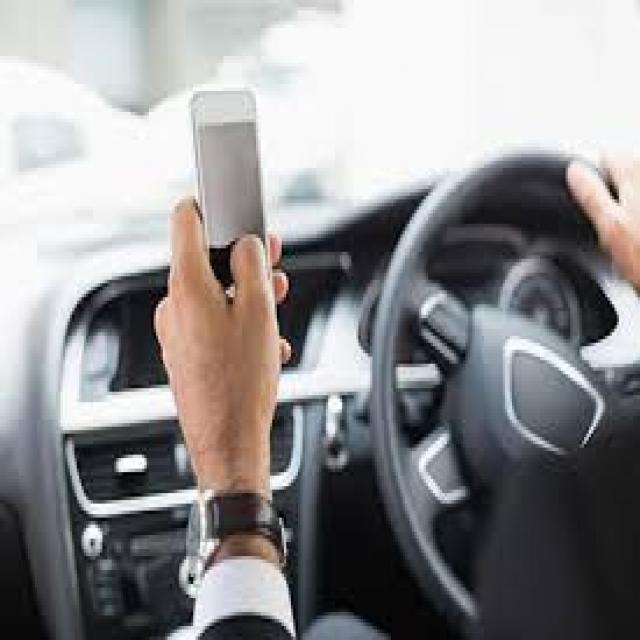Cellphone_texting: (154, 80, 291, 440)
